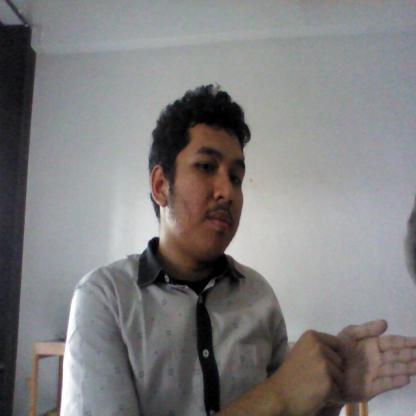Nama: (285, 296, 416, 416)
